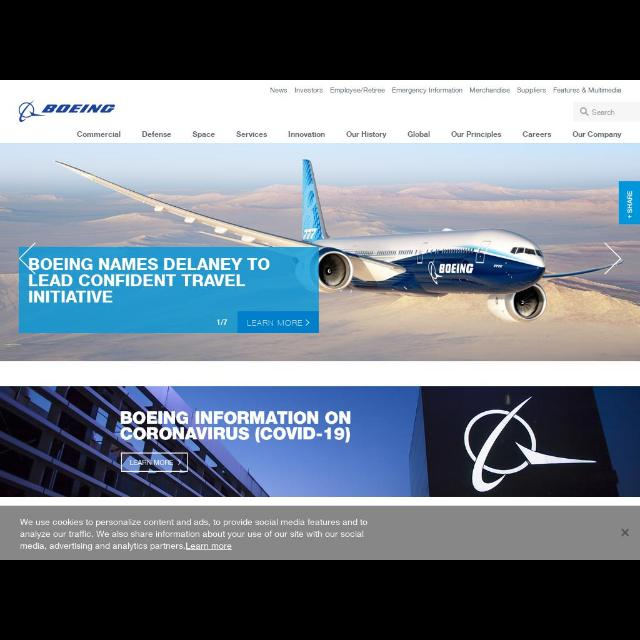backgroundimage: (1, 387, 639, 497)
icon: (604, 242, 622, 276), (19, 243, 37, 275), (580, 108, 590, 116), (620, 528, 630, 536), (305, 320, 309, 326), (178, 461, 180, 465)
image: (1, 144, 639, 362), (19, 100, 115, 122)
input: (573, 102, 639, 121)
multitab: (76, 130, 622, 138), (268, 85, 624, 95)
text: (19, 518, 367, 550), (28, 258, 270, 304), (120, 410, 352, 444), (392, 88, 463, 94), (553, 87, 621, 93), (247, 319, 303, 326), (78, 130, 120, 138), (330, 87, 386, 93), (451, 132, 502, 138), (573, 132, 621, 138), (130, 459, 173, 465), (347, 132, 387, 138), (470, 88, 510, 94), (288, 131, 326, 137), (626, 192, 634, 218), (236, 131, 268, 137), (142, 131, 172, 137), (522, 132, 552, 138), (516, 88, 546, 94), (295, 87, 323, 93), (270, 86, 288, 94), (192, 132, 215, 138), (593, 110, 615, 116), (408, 132, 430, 136), (217, 319, 227, 325)
textbutton: (238, 312, 320, 332), (120, 452, 188, 472), (618, 182, 640, 224)
